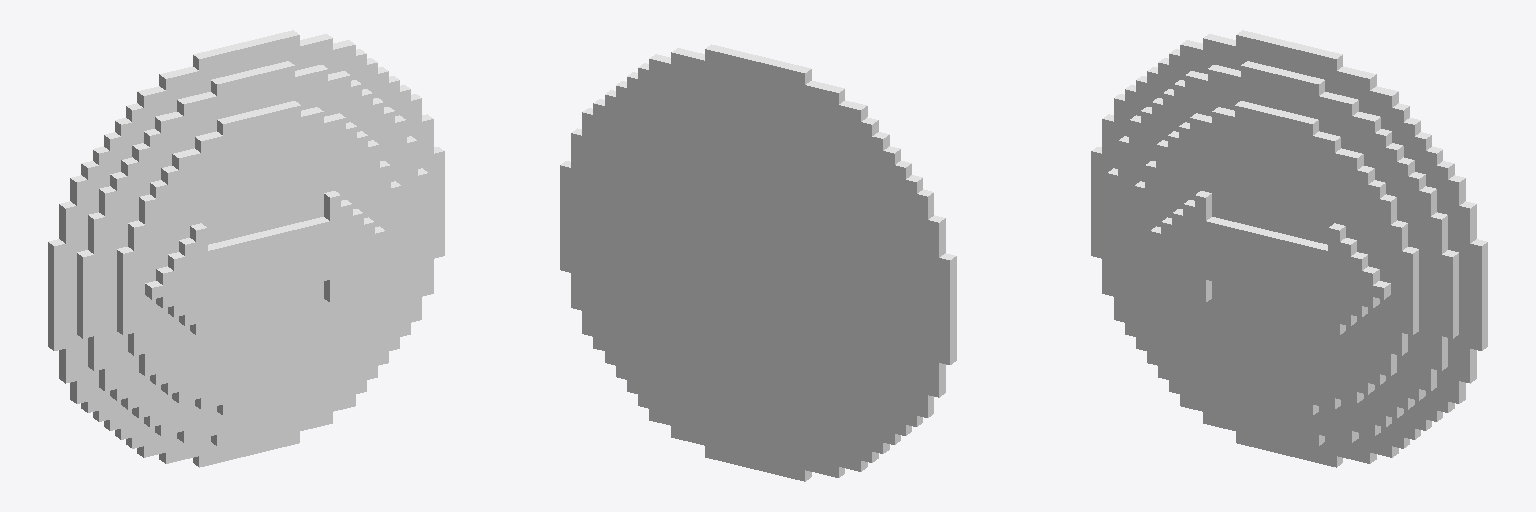
The model's file is MoveCursor_02.obj.
The picture shows the model from 3 angles: view 1: azimuth 30°, elevation 25°; view 2: azimuth 150°, elevation 25°; view 3: azimuth 330°, elevation 25°; orthographic projection.
Bounding box in the file's own units: 35 × 35 × 4.